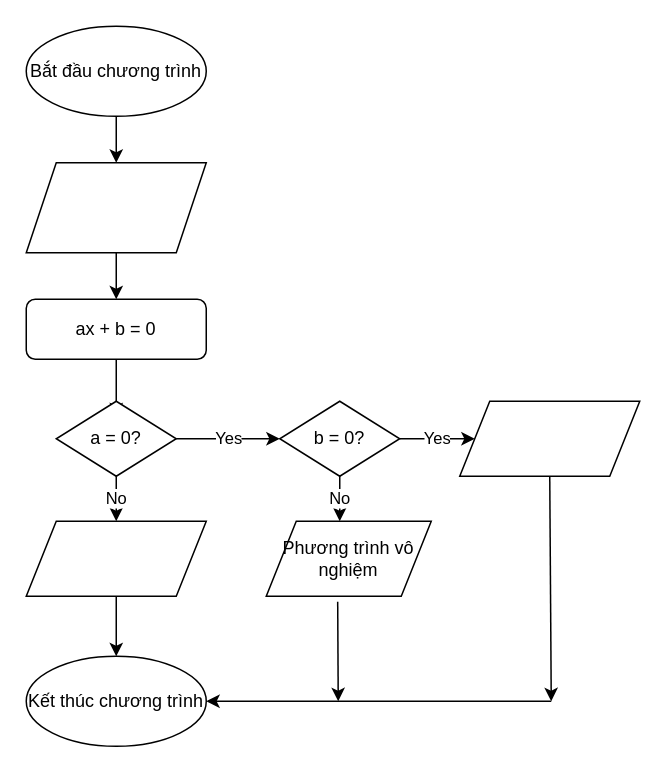
Some shapes in this 666 by 773 pixel diagram are drawn without their labels. Each missing label, with the box of its shape:
Nghiệm x = -b/a: (25, 520, 206, 596)
Nhập a, b: (25, 161, 206, 253)
Phương trình có vô số nghiệm: (458, 400, 640, 476)
